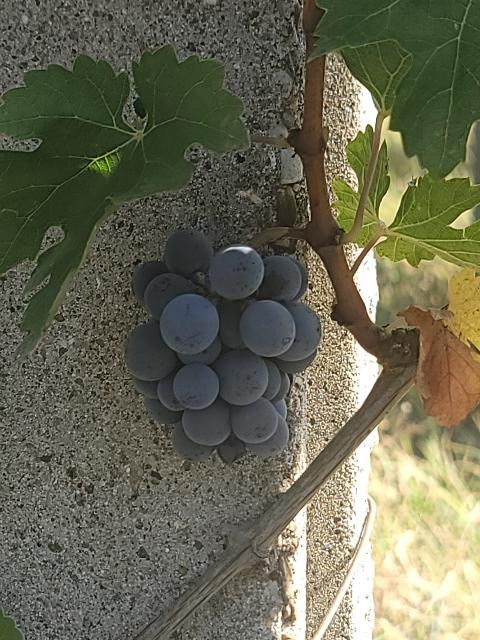grapes: (126, 230, 321, 462)
